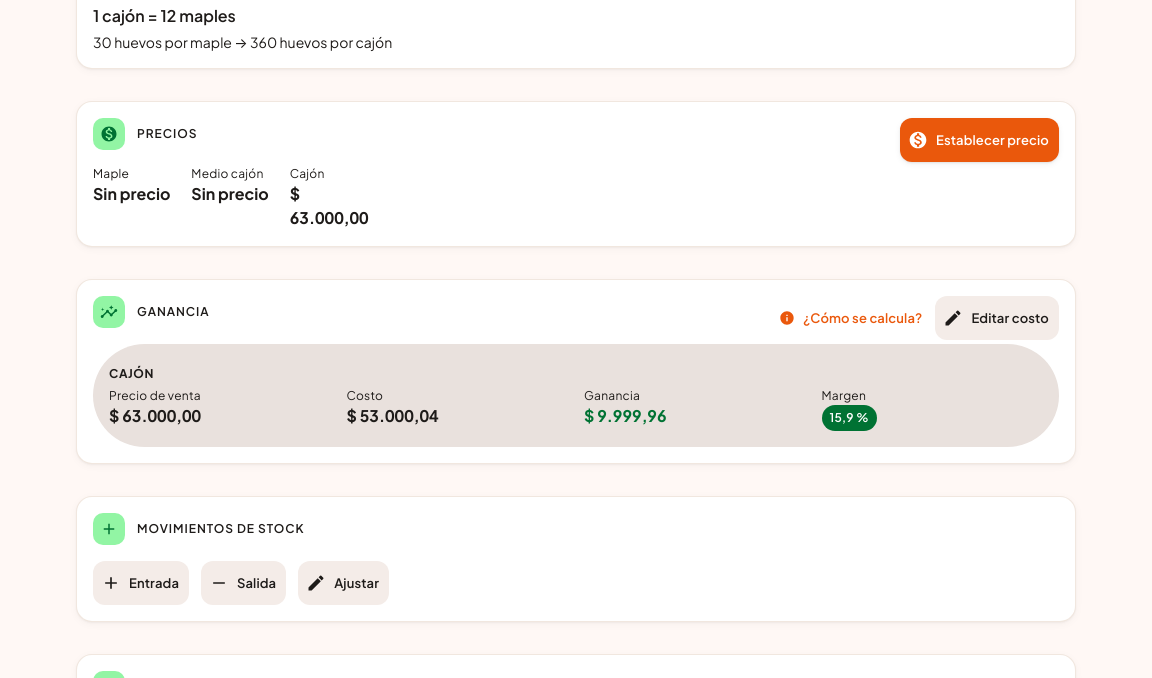
Scenario: ProductDetailPage — Ganancia section › opens the help dialog explaining the weighted average cost
(page scrolled)
Click the button "¿Cómo se calcula?".
click(852, 318)  # box [776,296,927,340]
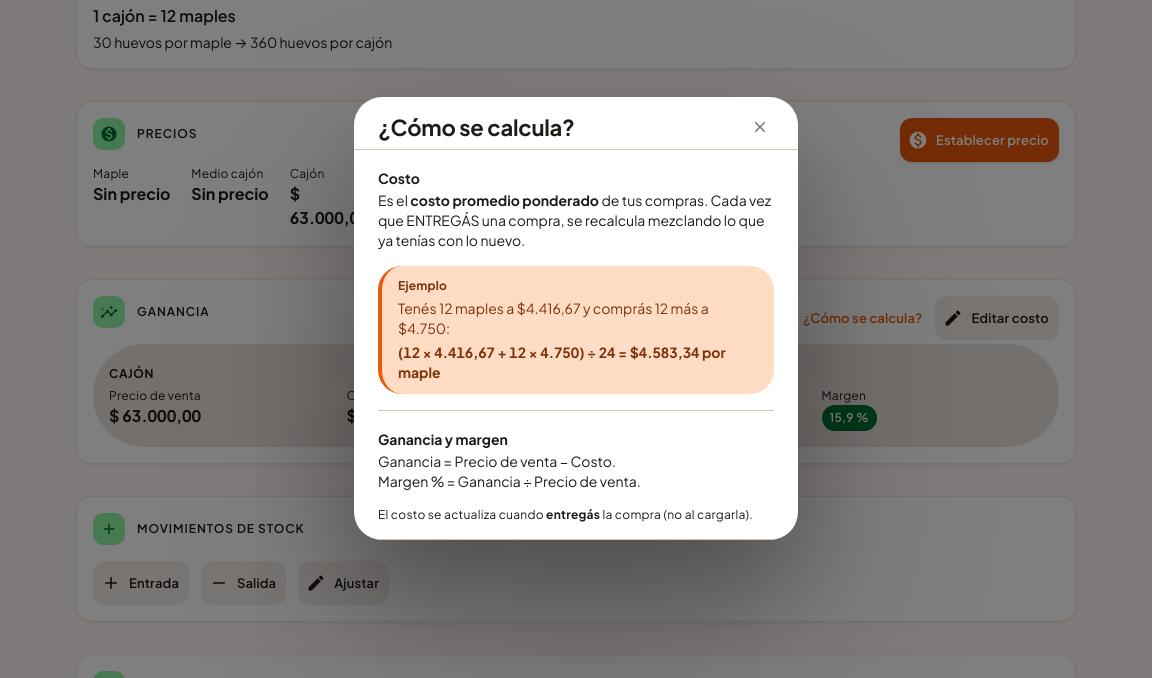
Check: the text "costo promedio ponderado" is shown, box [410,190,599,208]
Check: the text "(12 × 4.416,67 + 12 × 4.750) ÷ 24 = $4.583,34 por maple" is shown, box [398,342,758,382]
